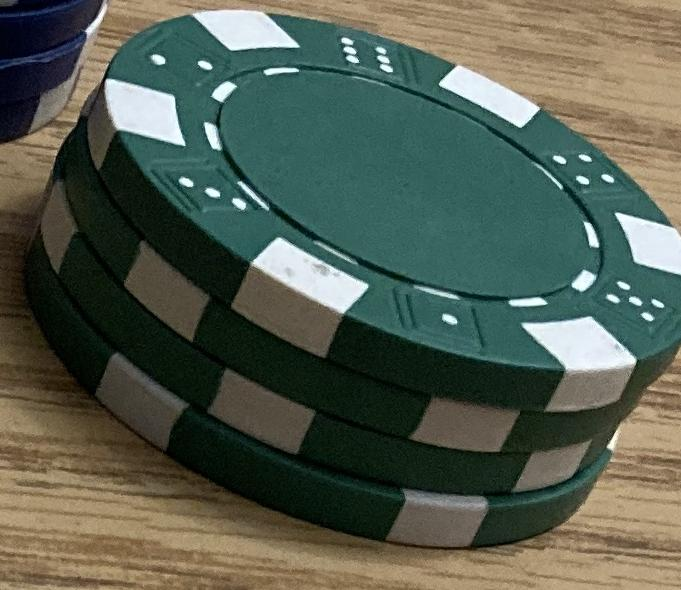Chip: (1, 1, 681, 590)
